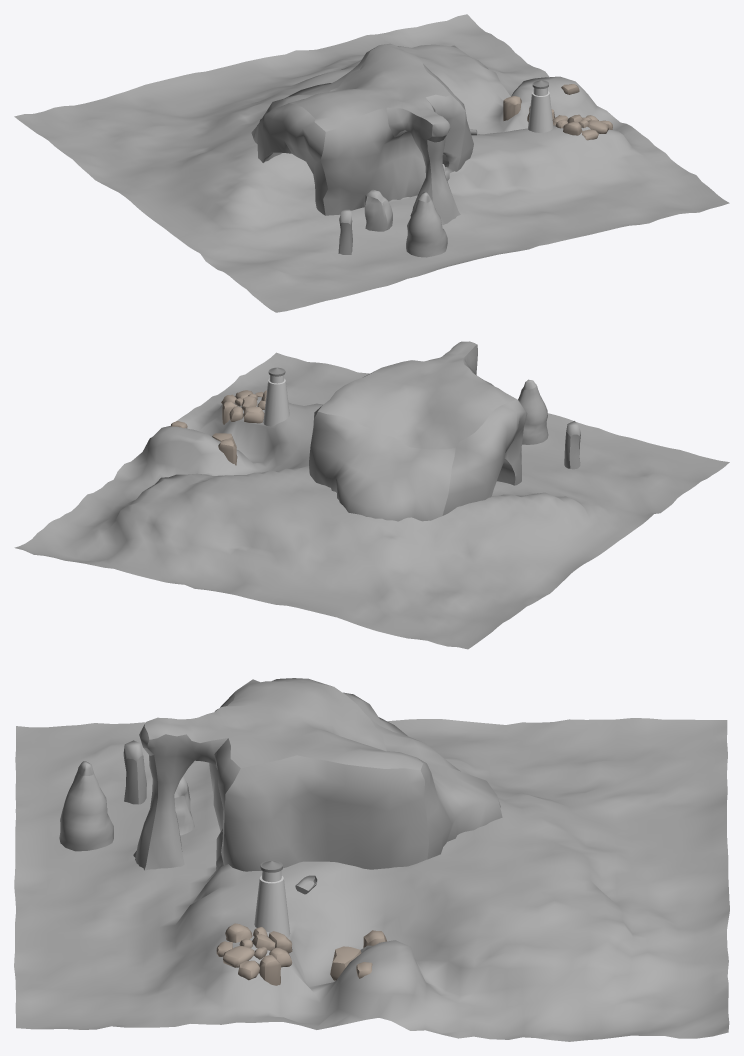
The model's file is Seagull_Island_v2.fbx.
3 renders of one model, top to bottom at view 1: azimuth 30°, elevation 25°; view 2: azimuth 150°, elevation 25°; view 3: azimuth 270°, elevation 25°, orthographic. The views are drawn at different scales.
Parts seen in each view (by area): view 1: pPlane2, pCube6, pCylinder1, SeagullStage_v4:pCylinder1, pCube2, pCube1; view 2: pPlane2, pCube6, pCylinder1, SeagullStage_v4:pCylinder1, pCube1; view 3: pPlane2, pCube6, pCylinder1, SeagullStage_v4:pCylinder1, pCube1, pCube2, SeagullStage_v4:pCube7.
Boxes of the visible parts, box(x1,y1,x2,y2) form: pPlane2: box(14, 14, 729, 312); pCube6: box(251, 43, 473, 225); pCylinder1: box(406, 192, 447, 257); SeagullStage_v4:pCylinder1: box(528, 80, 553, 132); pCube2: box(364, 189, 392, 231); pCube1: box(338, 209, 352, 254); pPlane2: box(14, 352, 729, 649); pCube6: box(309, 341, 527, 521); pCylinder1: box(518, 379, 548, 444); SeagullStage_v4:pCylinder1: box(263, 367, 289, 426); pCube1: box(564, 421, 580, 469); pPlane2: box(14, 718, 729, 1041); pCube6: box(133, 678, 502, 871); pCylinder1: box(59, 761, 113, 851); SeagullStage_v4:pCylinder1: box(254, 860, 290, 937); pCube1: box(123, 740, 146, 804); pCube2: box(174, 777, 194, 835); SeagullStage_v4:pCube7: box(330, 946, 361, 980).
Size of the model in its own units: 1025 by 255 by 1025.
